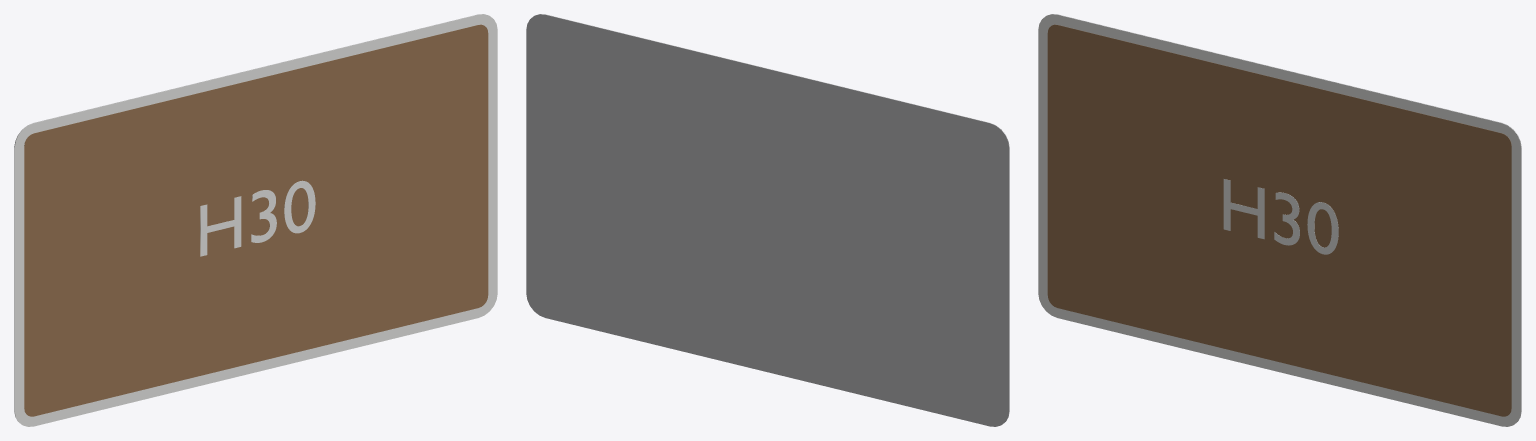
3 renders of one model, left to right at view 1: azimuth 30°, elevation 25°; view 2: azimuth 150°, elevation 25°; view 3: azimuth 330°, elevation 25°, orthographic.
Visible parts, largest first — view 1: H30_fond01, H30_cadre00, H30_txt02, H30_dos; view 2: H30_dos; view 3: H30_fond01, H30_cadre00, H30_txt02, H30_dos.
Part boxes in pixels (left/top/right/bottom): H30_fond01: left=24, top=24, right=488, bottom=416; H30_cadre00: left=14, top=14, right=497, bottom=426; H30_txt02: left=200, top=180, right=315, bottom=256; H30_dos: left=14, top=14, right=487, bottom=420; H30_dos: left=526, top=14, right=1009, bottom=426; H30_fond01: left=1047, top=24, right=1511, bottom=416; H30_cadre00: left=1038, top=14, right=1521, bottom=426; H30_txt02: left=1223, top=179, right=1338, bottom=254; H30_dos: left=1048, top=14, right=1521, bottom=420.
Bounding box in the file's own units: 1 × 0.6 × 0.0025.
